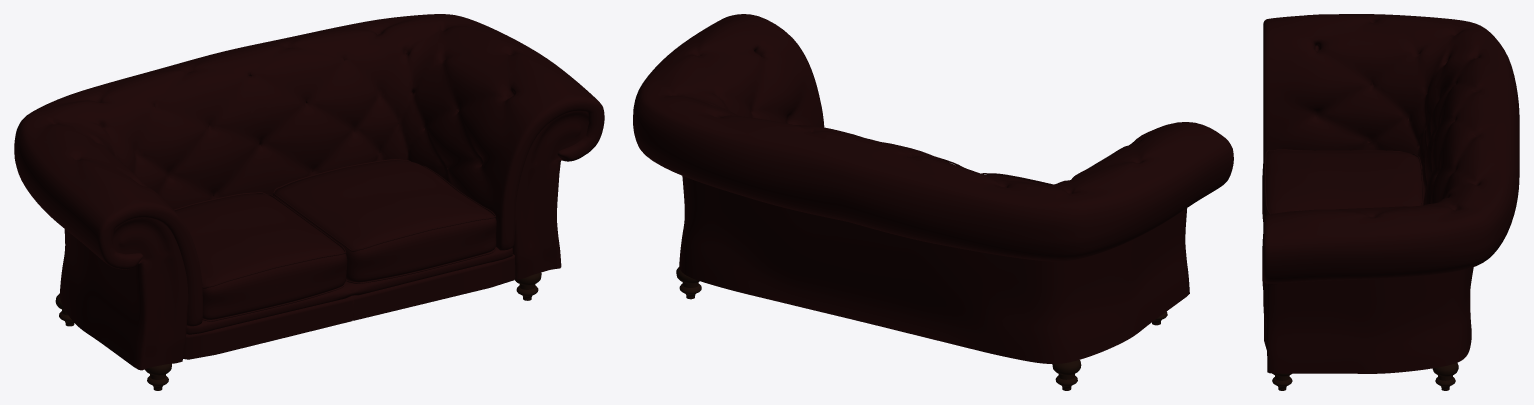
File: Sofa.FBX
The picture shows the model from 3 angles, left to right: view 1: azimuth 30°, elevation 25°; view 2: azimuth 150°, elevation 25°; view 3: azimuth 270°, elevation 25°; orthographic projection. The views are drawn at different scales.
Visible parts, largest first — view 1: Object002; view 2: Object002; view 3: Object002.
Boxes of the visible parts, box(x1,y1,x2,y2) form: Object002: box(14, 14, 604, 390); Object002: box(633, 14, 1233, 390); Object002: box(1262, 14, 1519, 390).
Size of the model in its own units: 44.56 by 17.76 by 21.18.
